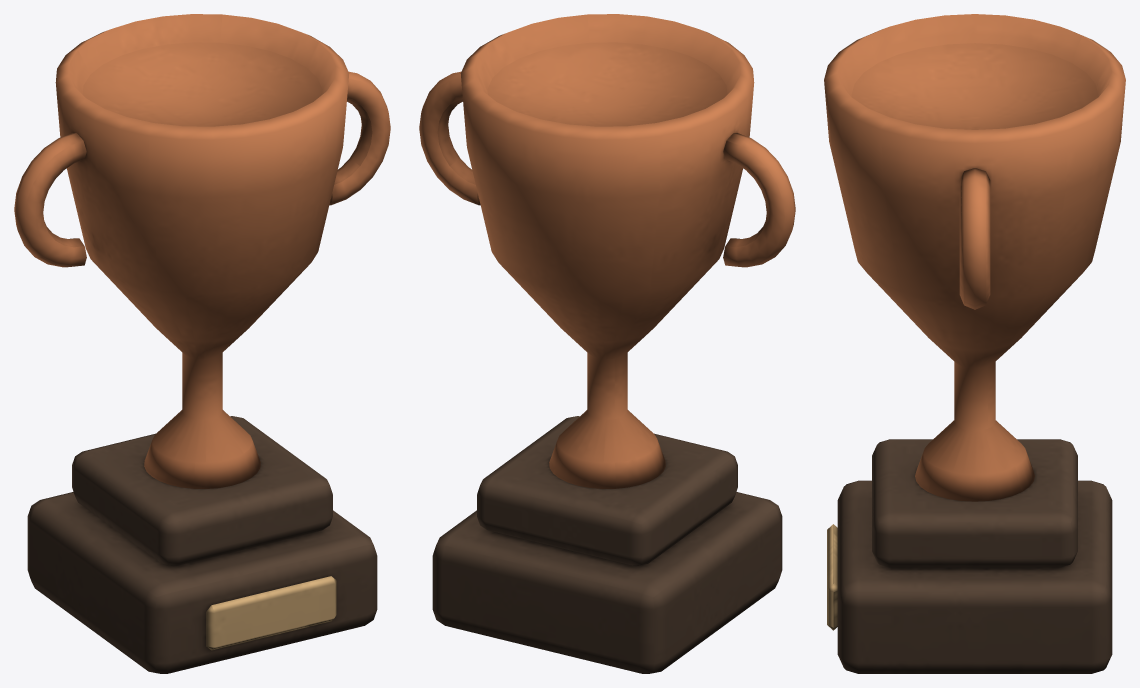
The model's file is trophy_bronze.glb.
3 renders of one model, left to right at view 1: azimuth 30°, elevation 25°; view 2: azimuth 150°, elevation 25°; view 3: azimuth 270°, elevation 25°, orthographic. The views are drawn at different scales.
Visible parts, largest first — view 1: trophy_bronze; view 2: trophy_bronze; view 3: trophy_bronze.
Boxes of the visible parts, x1,y1,x2,y2 form: trophy_bronze: (14, 14, 390, 673); trophy_bronze: (419, 14, 795, 673); trophy_bronze: (824, 14, 1125, 673).
Size of the model in its own units: 0.2064 by 0.284 by 0.1408.
3 materials, 3 textured.
